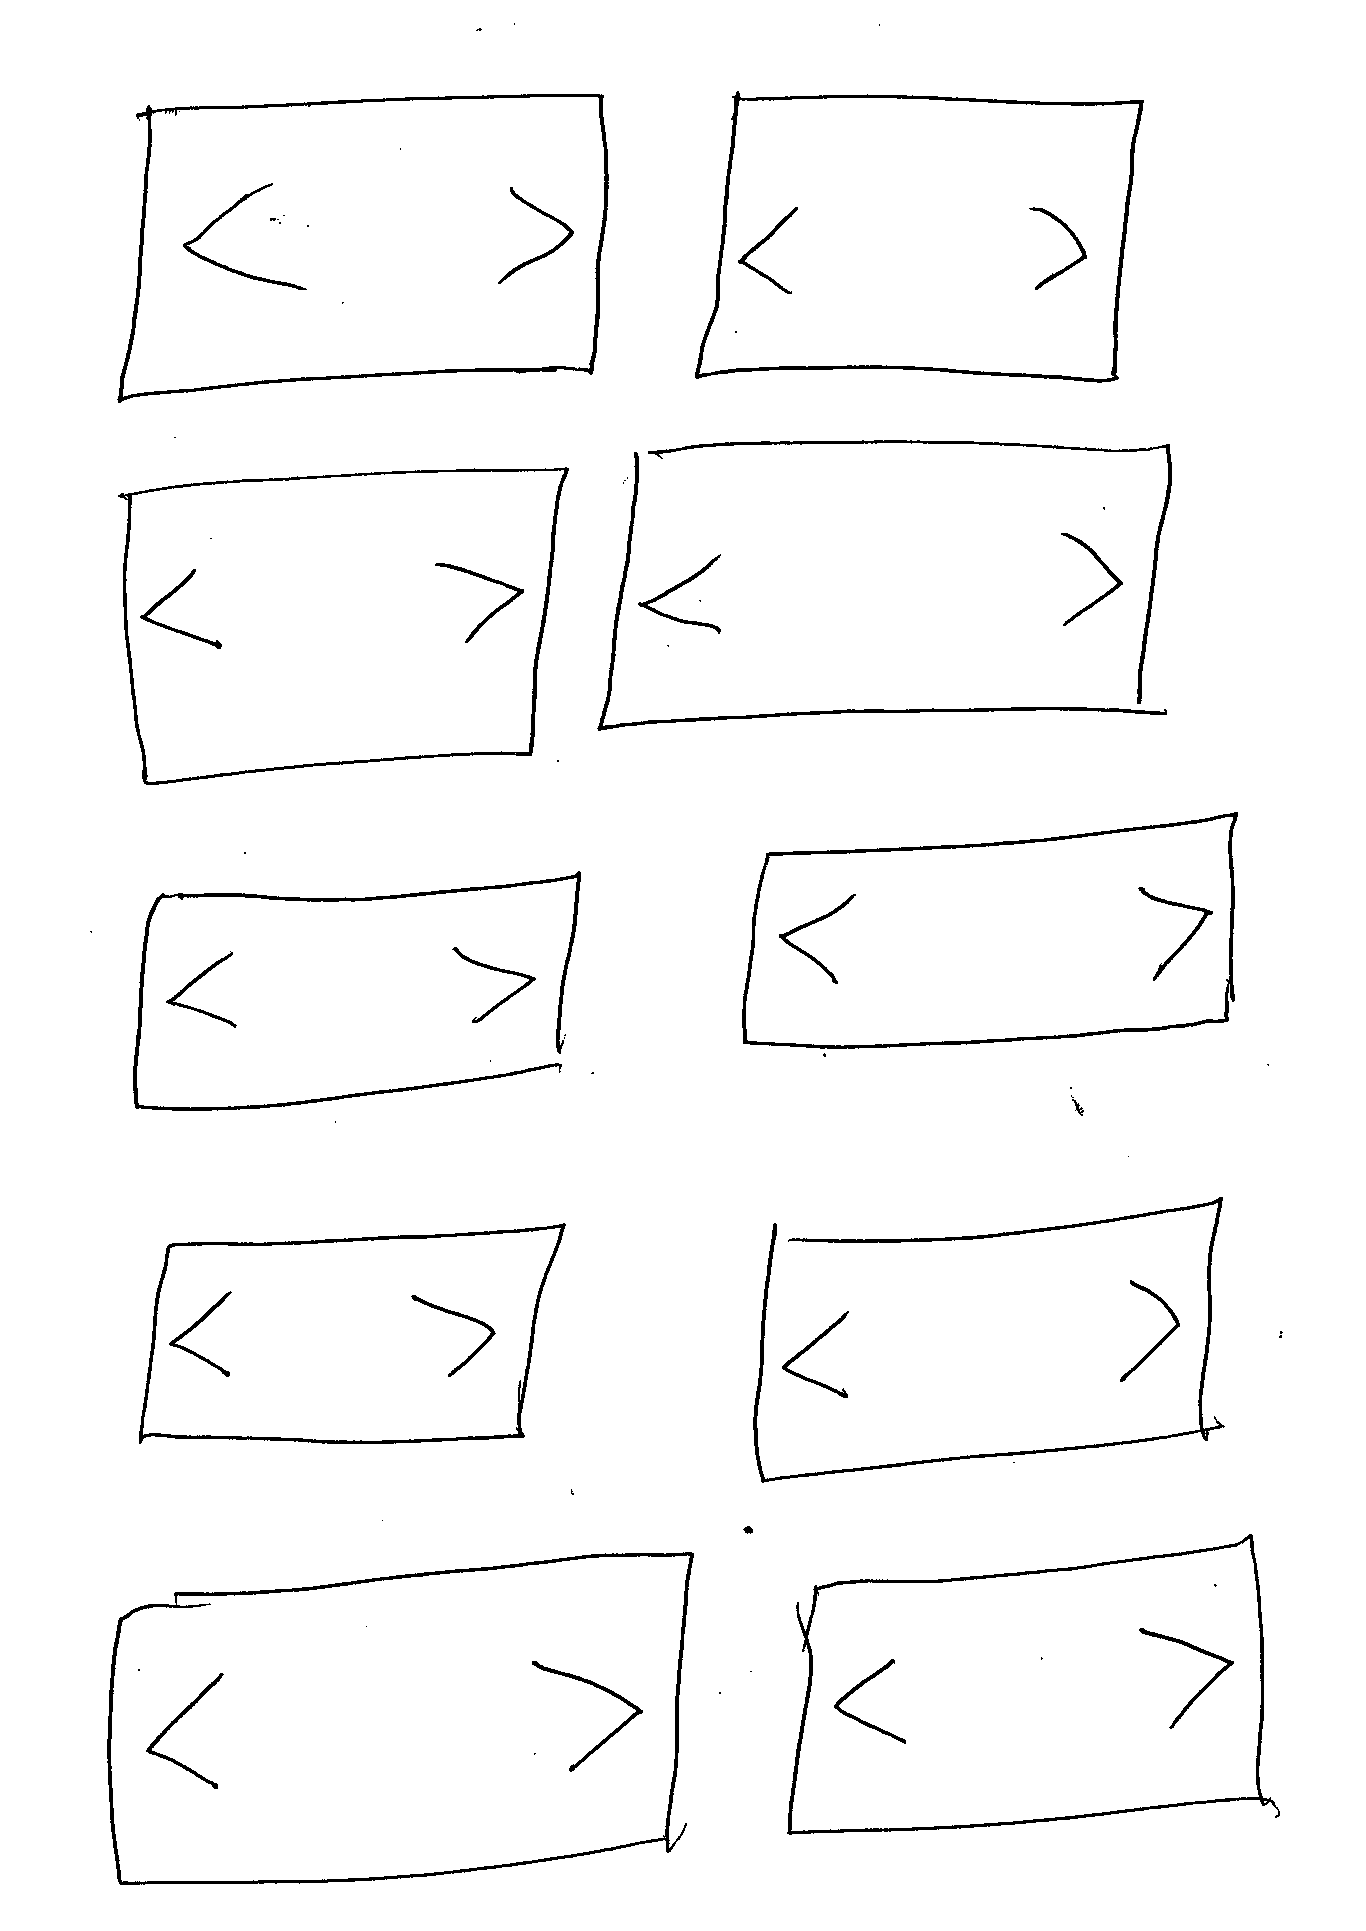Carousel: (103, 1547, 696, 1887), (591, 438, 1174, 733), (109, 89, 612, 404), (784, 1533, 1267, 1839), (121, 464, 572, 787), (751, 1195, 1227, 1487), (689, 92, 1146, 386), (738, 809, 1239, 1048), (129, 869, 584, 1112), (132, 1218, 569, 1446)
